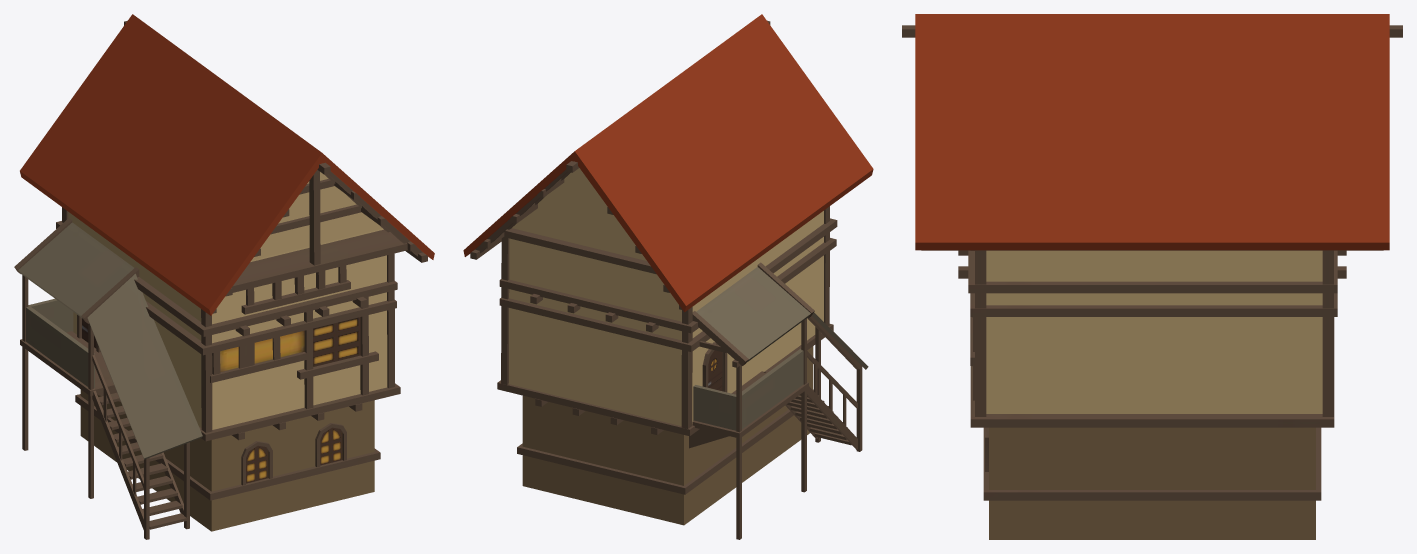
Rendered from castle_town_house02.glb.
3 views of the same model, side by side, from view 1: azimuth 30°, elevation 25°; view 2: azimuth 150°, elevation 25°; view 3: azimuth 270°, elevation 25° (orthographic). The views are drawn at different scales.
Parts seen in each view (by area): view 1: house02; view 2: house02; view 3: house02.
Boxes of the visible parts, x1,y1,x2,y2 form: house02: (14, 14, 434, 539); house02: (463, 14, 873, 539); house02: (902, 14, 1402, 539).
Bounding box in the file's own units: 6.34 × 8.93 × 8.52.
Materials: 1 (1 with a texture image).
